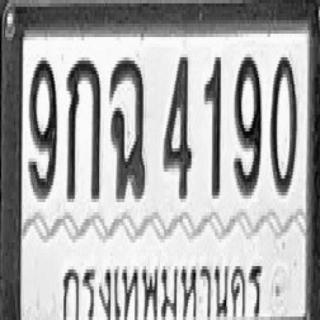A01: (66, 57, 100, 199)
A09: (109, 57, 145, 199)
N00: (270, 52, 297, 194)
N01: (203, 54, 221, 196)
N04: (163, 54, 192, 199)
N09: (233, 54, 261, 196), (28, 57, 56, 199)
P04: (56, 254, 269, 320)
